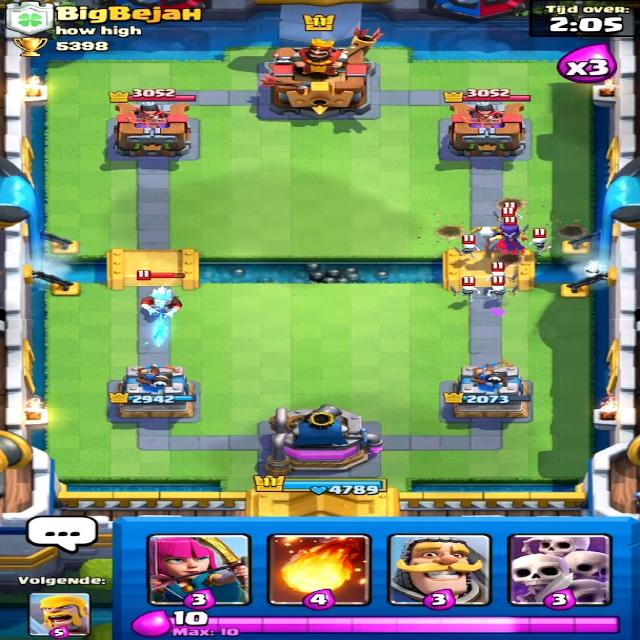Enemy_Ice_Wizard_Troop: (138, 285, 188, 314)
Enemy_Skeleton_Troop: (446, 280, 489, 300), (530, 233, 558, 257), (453, 235, 480, 259), (480, 284, 510, 300)
Enemy_Witch_Troop: (478, 225, 530, 263)
Fireball_Card: (273, 534, 364, 604)
